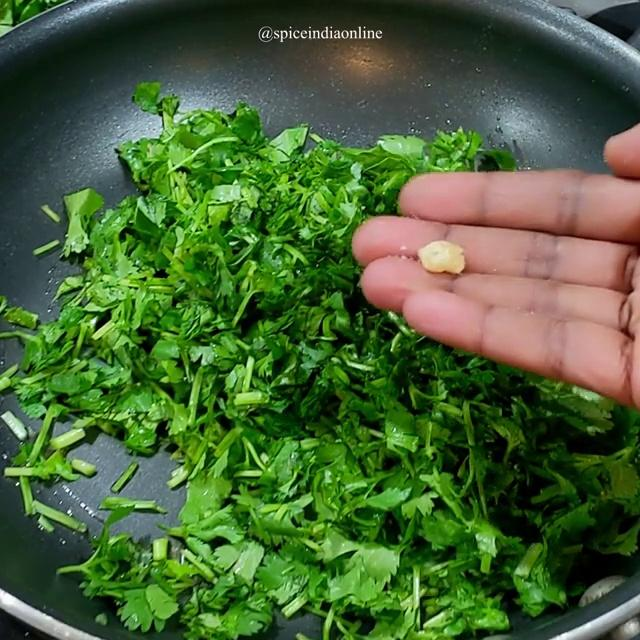cilantro: (104, 137, 351, 628)
